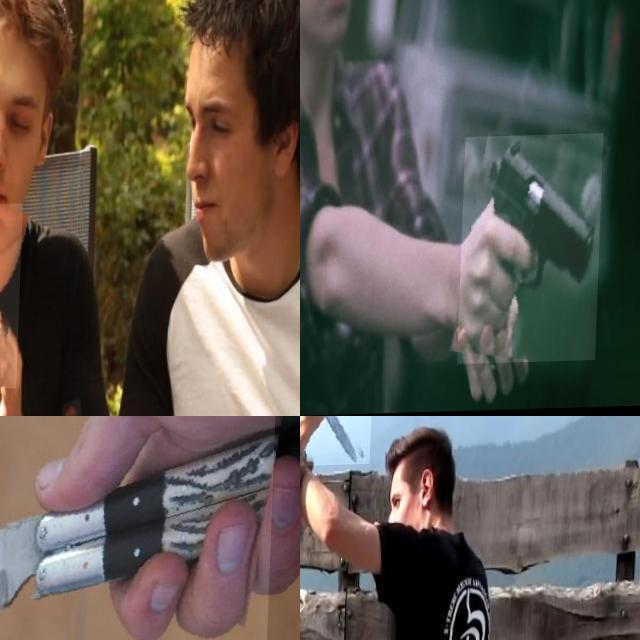-: (0, 416, 279, 640), (0, 204, 47, 391), (300, 416, 374, 472)
gun-knife-thesis - v11 Yolov5 augmented: (462, 136, 606, 366)
